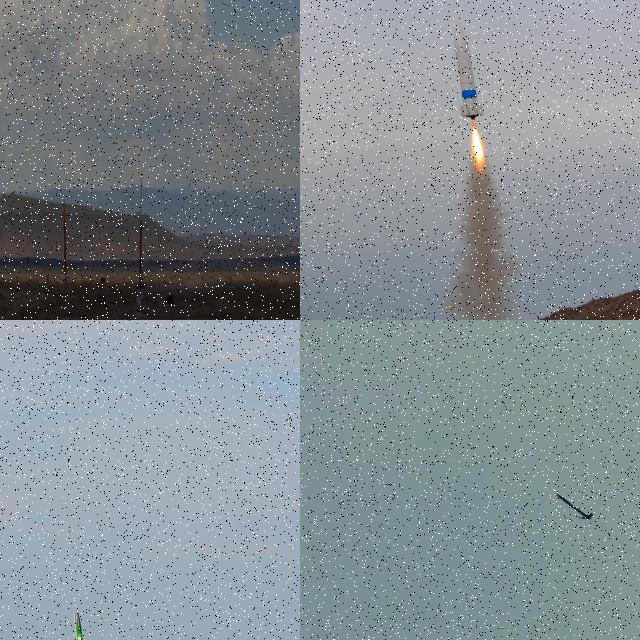Rocket: (451, 18, 485, 121), (552, 493, 594, 519), (62, 207, 68, 274), (138, 218, 143, 281), (76, 612, 83, 640)
